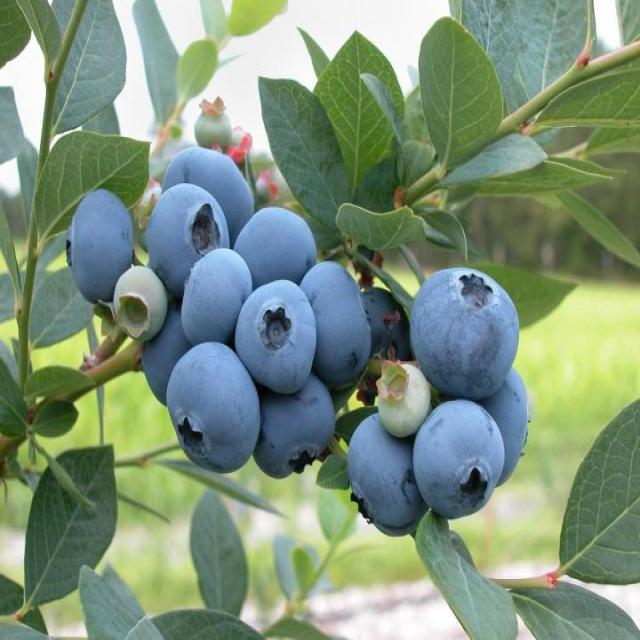BlueBerry - v1: (406, 254, 526, 410), (160, 334, 269, 481), (408, 391, 511, 535), (292, 252, 380, 404), (140, 170, 236, 306), (342, 404, 438, 540), (230, 271, 324, 404), (156, 138, 264, 253), (62, 178, 139, 308), (174, 239, 257, 359), (251, 377, 344, 483), (482, 350, 548, 494), (231, 198, 326, 293), (352, 273, 420, 372), (109, 252, 175, 344), (372, 352, 438, 442), (139, 297, 197, 398)
